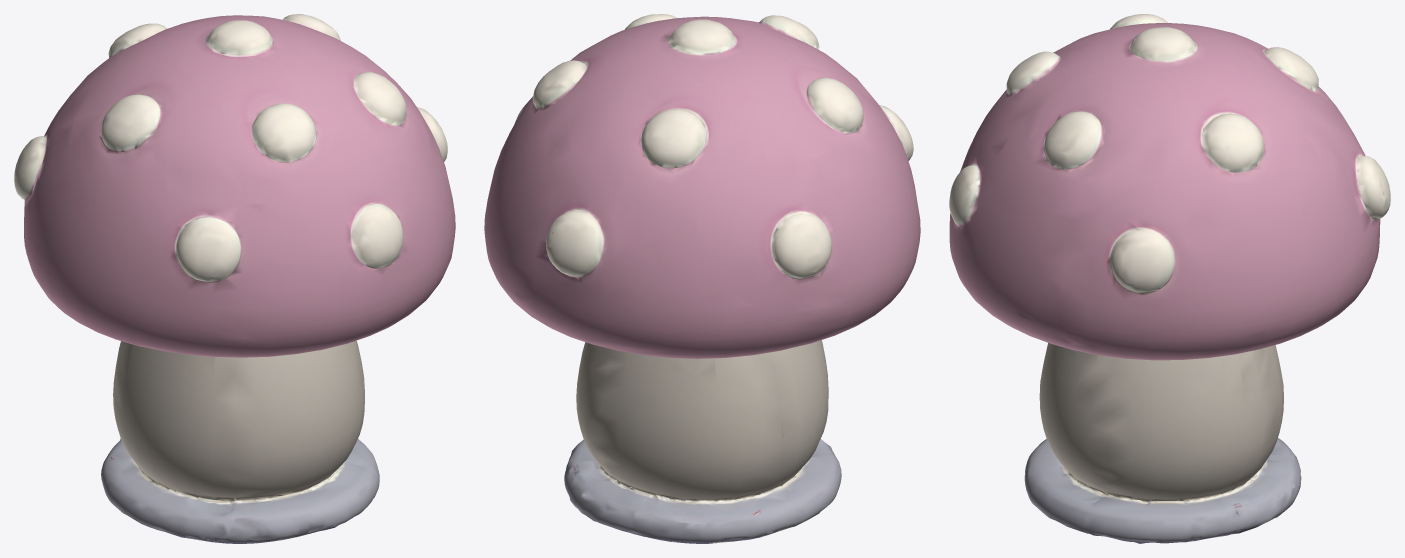
The picture shows the model from 3 angles, left to right: view 1: azimuth 30°, elevation 25°; view 2: azimuth 150°, elevation 25°; view 3: azimuth 270°, elevation 25°; orthographic projection.
Visible parts, largest first — view 1: repaired; view 2: repaired; view 3: repaired.
Boxes of the visible parts, <box> form: repaired: <box>14,14,455,543</box>; repaired: <box>484,14,920,543</box>; repaired: <box>949,14,1390,543</box>.
Size of the model in its own units: 0.8374 by 0.9923 by 0.851.
Materials: 1 (1 with a texture image).
